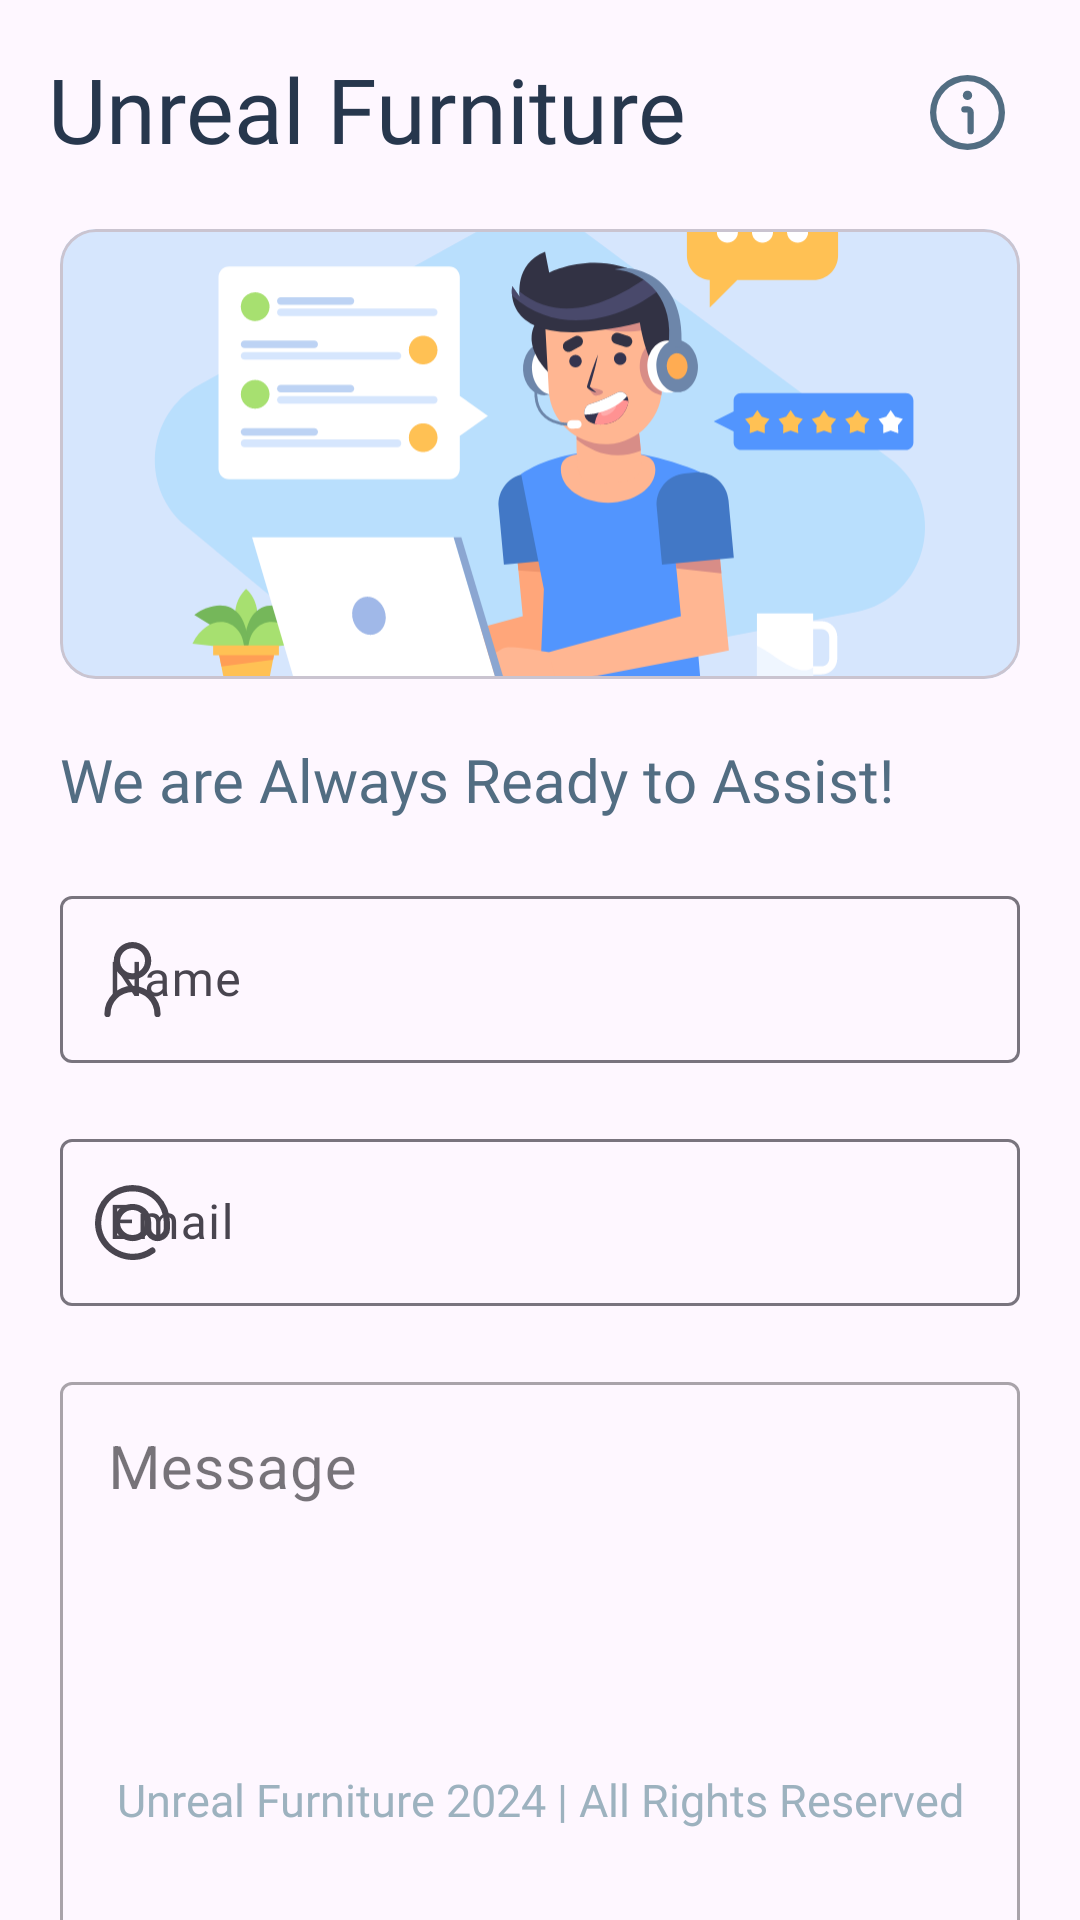

Screen size 1080*1920. Icon name, then its box in pixels as detection(x1, y1, x2, y2):
info: detection(930, 75, 1005, 150)
